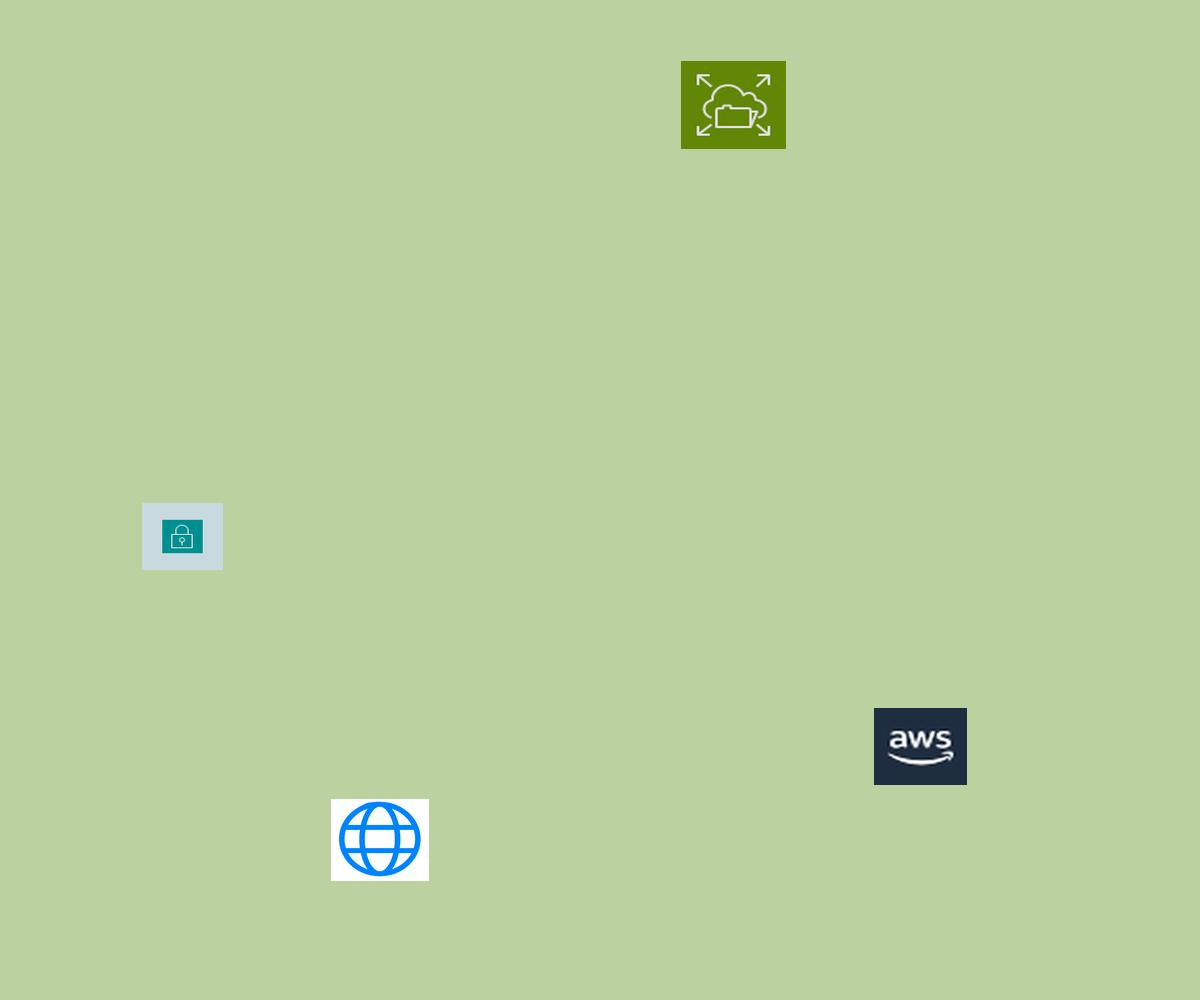AWS-Cloud-logo: (874, 708, 967, 785)
AWS-EFS: (681, 61, 786, 149)
AWS-Private-subnet: (142, 503, 223, 570)
Azure_http: (331, 799, 429, 881)
